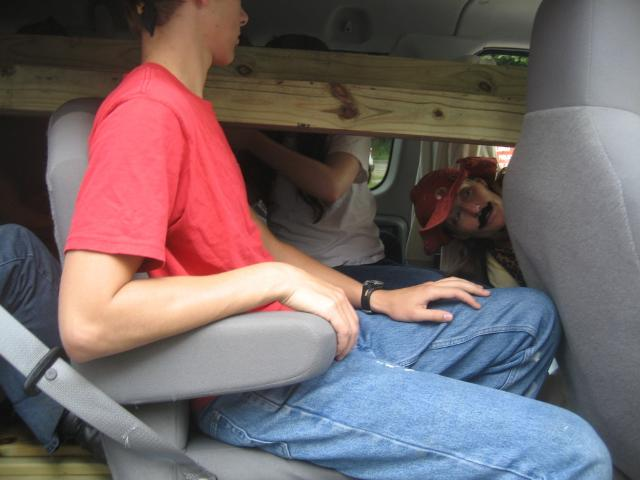Seatbelt: (1, 305, 218, 479)
